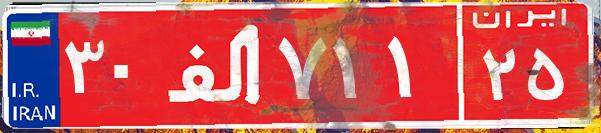0: (110, 28, 158, 105)
1: (385, 28, 445, 110), (330, 28, 385, 110)
2: (475, 38, 525, 113)
3: (57, 26, 110, 107)
5: (525, 38, 570, 115)
7: (273, 28, 330, 110)
الف: (158, 15, 273, 115)
